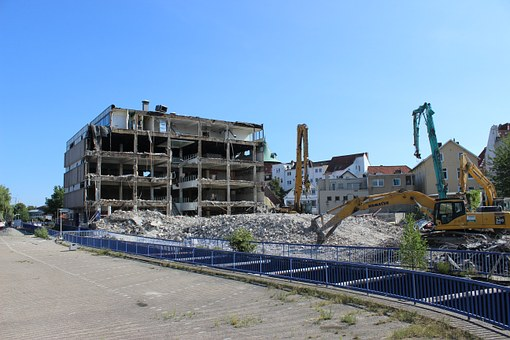excavator: (309, 100, 510, 266), (273, 121, 318, 226)
